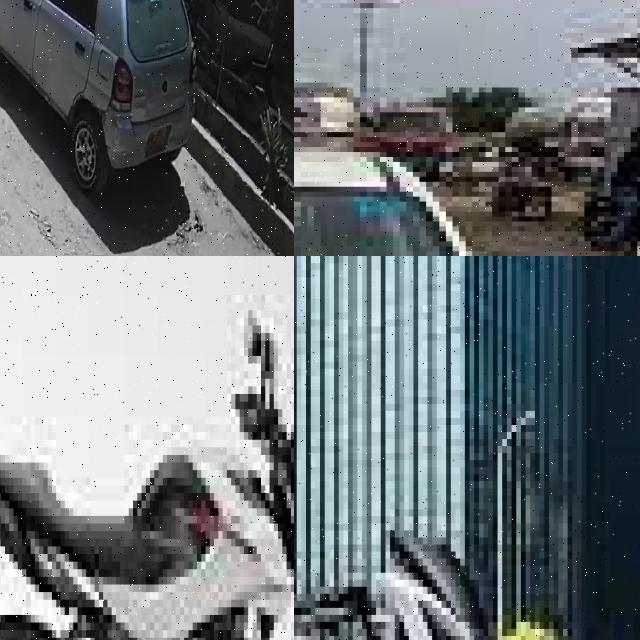bike: (0, 409, 294, 640), (294, 523, 591, 640), (188, 0, 274, 131)
car: (294, 117, 640, 256), (0, 0, 195, 196)
